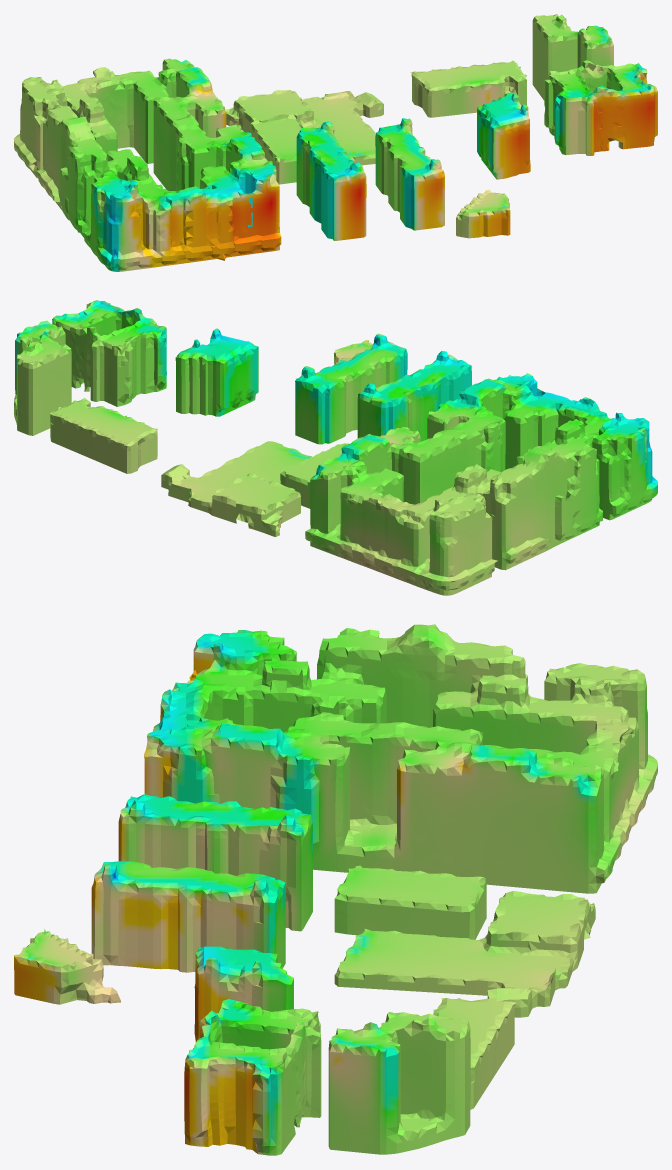
File: windpressure_building_8.gltf
3 renders of one model, top to bottom at view 1: azimuth 30°, elevation 25°; view 2: azimuth 150°, elevation 25°; view 3: azimuth 270°, elevation 25°, orthographic. The views are drawn at different scales.
Parts seen in each view (by area): view 1: 0; view 2: 0; view 3: 0.
Part boxes in pixels (x1,y1,x2,y2): 0: [14, 14, 657, 271]; 0: [14, 300, 657, 595]; 0: [14, 624, 657, 1155].
Size of the model in its own units: 216 by 33.41 by 140.
Materials: 1 (1 with a texture image).
